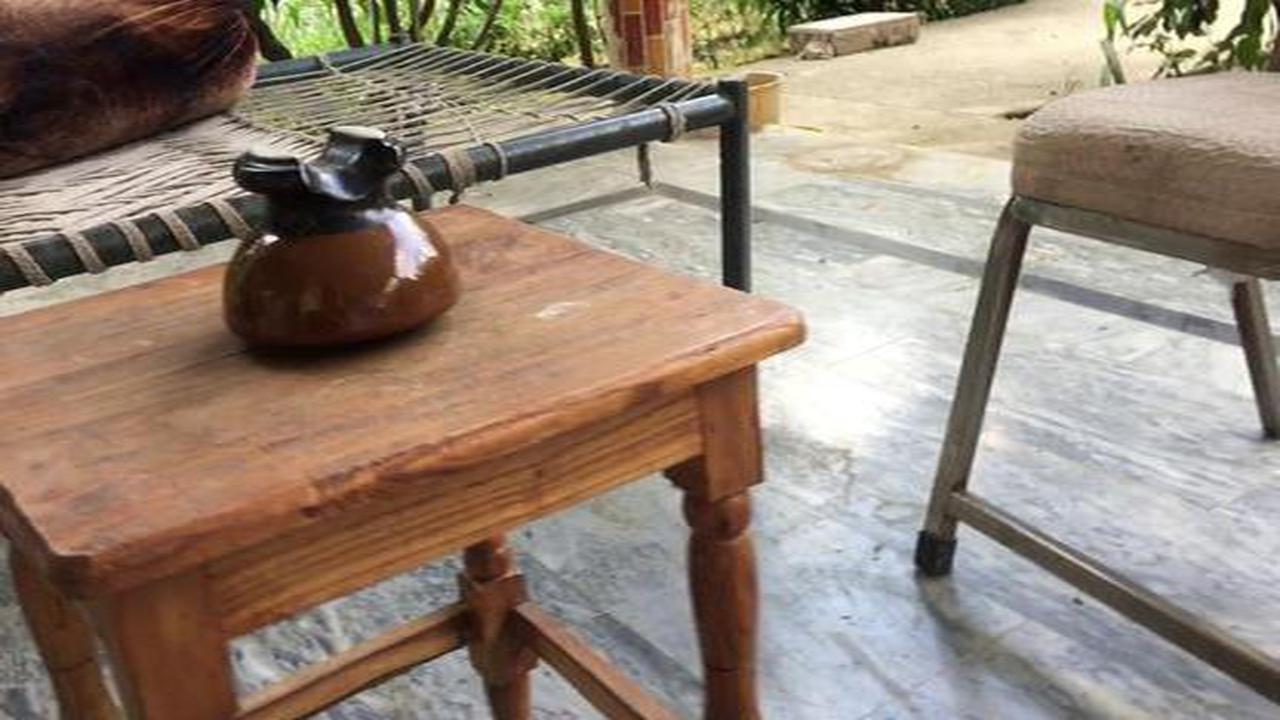insulator_pin: (207, 116, 474, 366)
